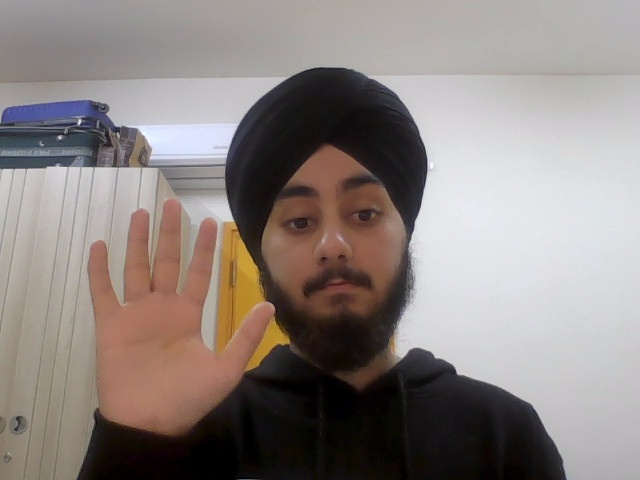Hello: (83, 195, 276, 436)
